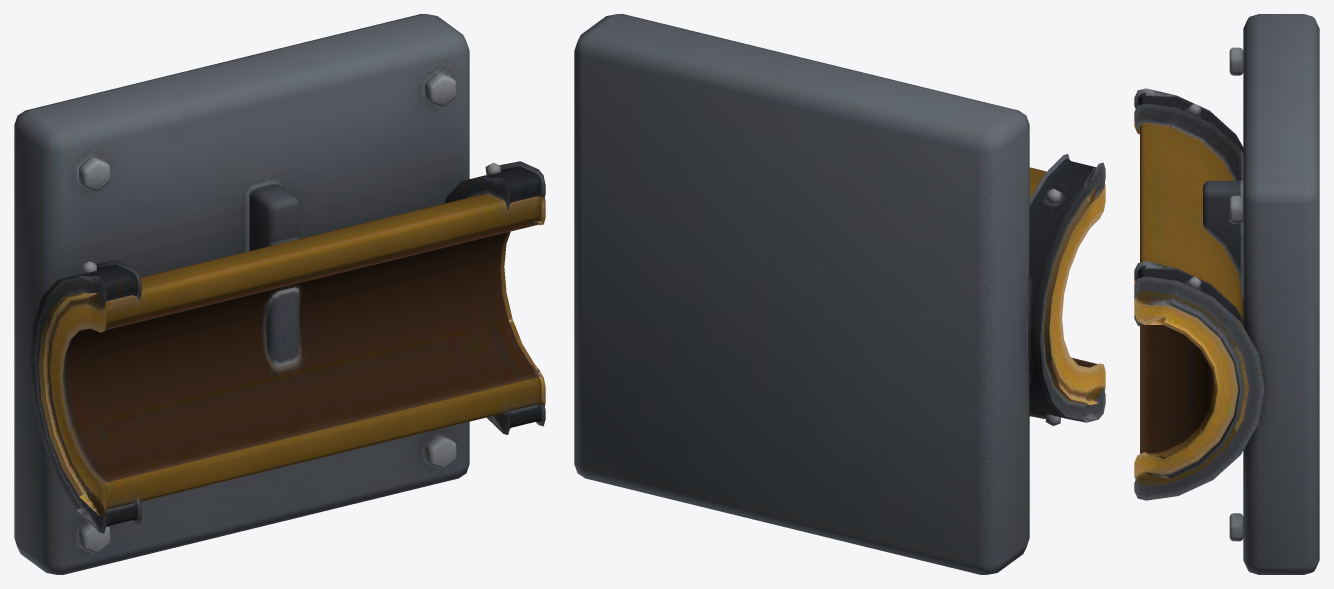
Rendered from pipe_straight.glb.
3 renders of one model, left to right at view 1: azimuth 30°, elevation 25°; view 2: azimuth 150°, elevation 25°; view 3: azimuth 270°, elevation 25°, orthographic. The views are drawn at different scales.
Visible parts, largest first — view 1: pipe_straight; view 2: pipe_straight; view 3: pipe_straight.
Part boxes in pixels (x1,y1,x2,y2): pipe_straight: (14,14,545,574); pipe_straight: (574,14,1105,574); pipe_straight: (1134,14,1319,574).
Size of the model in its own units: 2.03 by 1.92 by 0.825.
1 material, 1 textured.
